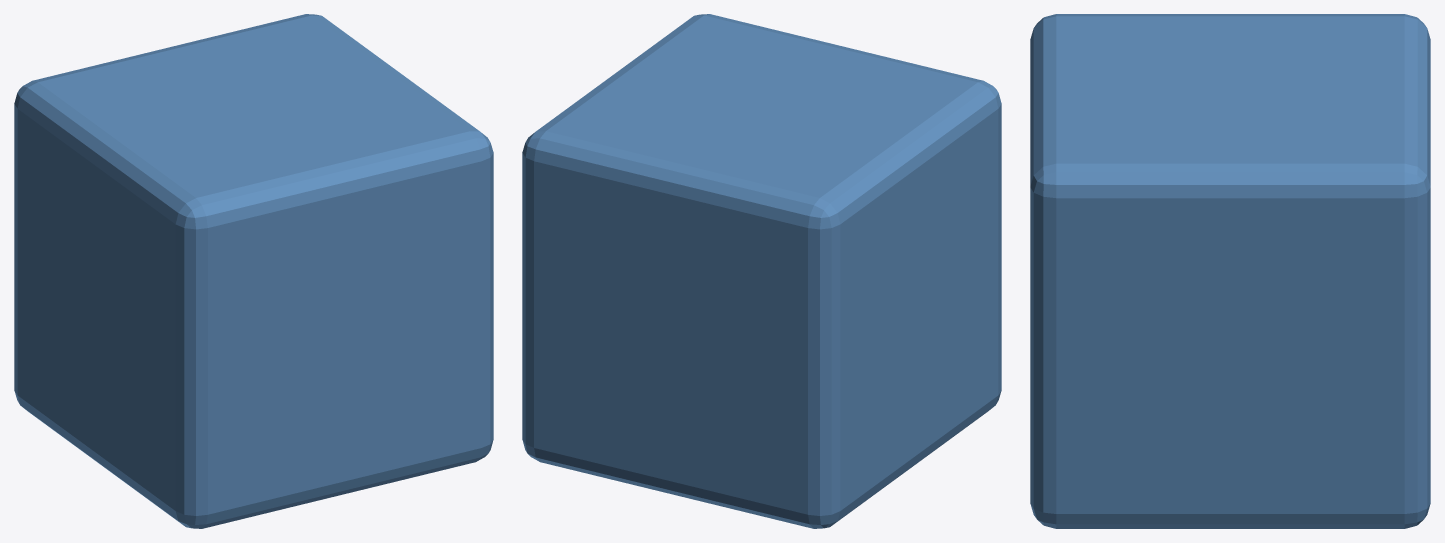
3 renders of one model, left to right at view 1: azimuth 30°, elevation 25°; view 2: azimuth 150°, elevation 25°; view 3: azimuth 270°, elevation 25°, orthographic. The views are drawn at different scales.
Visible parts, largest first — view 1: Cube_Render; view 2: Cube_Render; view 3: Cube_Render.
Boxes of the visible parts, bbox=[...] form: Cube_Render: bbox=[14, 14, 493, 528]; Cube_Render: bbox=[522, 14, 1001, 528]; Cube_Render: bbox=[1030, 14, 1430, 528].
Size of the model in its own units: 0.385 by 0.385 by 0.385.
